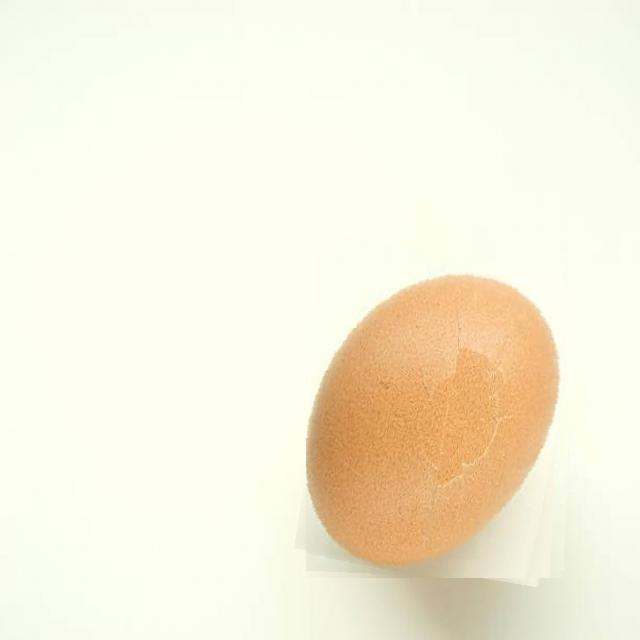biodegradable: (306, 246, 577, 578)
